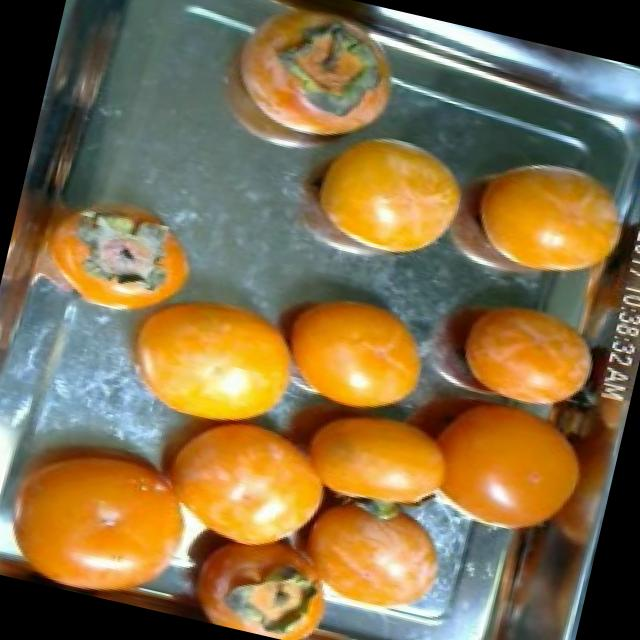Fruit: (93, 257, 329, 448), (269, 102, 490, 274), (247, 263, 458, 433), (447, 129, 640, 308), (431, 273, 622, 419)
